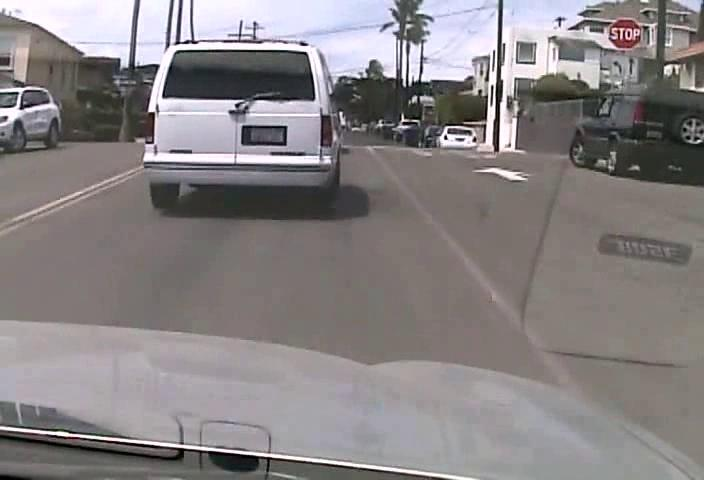stop: (607, 16, 642, 50)
